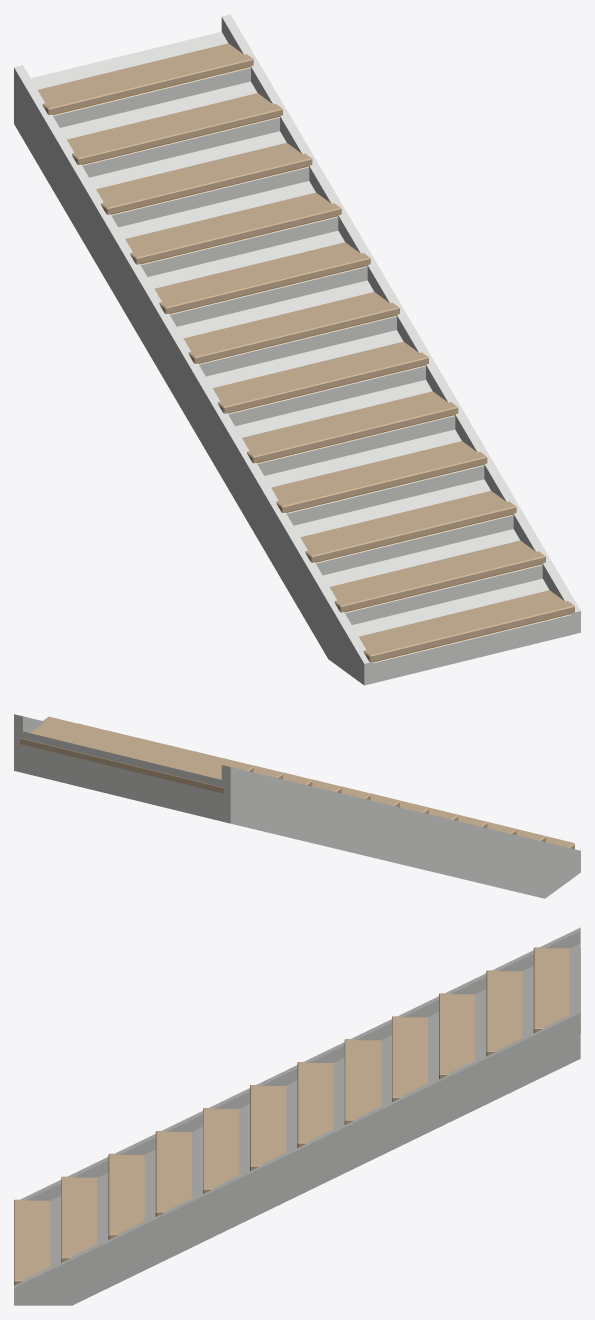
The model's file is office-lobby-and-facilities-stair-flight-module-fd752f39__26164.glb.
3 views of the same model, one above another, from view 1: azimuth 30°, elevation 25°; view 2: azimuth 150°, elevation 25°; view 3: azimuth 270°, elevation 25° (orthographic). The views are drawn at different scales.
Parts seen in each view (by area): view 1: stair-flight-module; view 2: stair-flight-module; view 3: stair-flight-module.
Boxes of the visible parts, x1,y1,x2,y2 form: stair-flight-module: (14, 14, 580, 685); stair-flight-module: (14, 714, 580, 898); stair-flight-module: (14, 927, 580, 1305).
Bounding box in the file's own units: 1.2 × 1.91 × 3.36.
